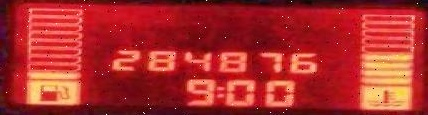0: (261, 79, 295, 107), (223, 79, 255, 106)
2: (109, 49, 139, 70)
4: (182, 50, 212, 71)
6: (287, 51, 317, 73)
7: (257, 51, 283, 72)
8: (145, 49, 175, 70), (217, 51, 247, 72)
9: (181, 78, 215, 106)
X: (213, 85, 225, 97)
